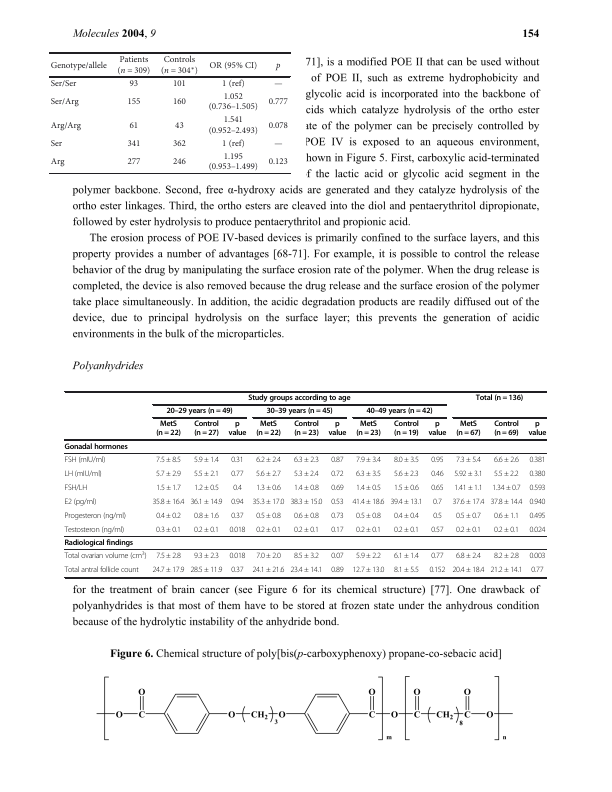borderless: (63, 390, 546, 577), (49, 51, 291, 174)
cell: (207, 92, 258, 113), (207, 115, 258, 136), (207, 152, 258, 173), (247, 394, 351, 403), (64, 550, 147, 561), (160, 55, 199, 76), (116, 55, 151, 76), (265, 407, 334, 417), (64, 566, 140, 575), (165, 407, 233, 417), (365, 407, 433, 417), (64, 442, 129, 452), (49, 60, 107, 71), (64, 511, 127, 521), (64, 539, 134, 548), (64, 525, 125, 535), (208, 60, 258, 71), (155, 420, 182, 439), (193, 420, 220, 439), (255, 420, 282, 439), (293, 420, 320, 439), (355, 420, 382, 439), (393, 420, 420, 439), (455, 420, 482, 439), (493, 420, 520, 439), (475, 394, 524, 403), (64, 455, 106, 465), (64, 469, 103, 479), (327, 420, 347, 439), (427, 420, 447, 439), (527, 420, 547, 439), (49, 120, 82, 131), (228, 420, 247, 439), (151, 497, 185, 507), (189, 497, 223, 507), (251, 497, 285, 507), (289, 497, 323, 507), (351, 497, 385, 507), (389, 497, 423, 507), (451, 497, 485, 507), (489, 497, 523, 507), (64, 497, 97, 507), (453, 483, 484, 493), (491, 483, 522, 493), (151, 566, 185, 575), (189, 566, 223, 575), (251, 566, 285, 575), (289, 566, 323, 575), (351, 566, 385, 575), (451, 566, 485, 575), (489, 566, 523, 575), (49, 97, 79, 107), (453, 469, 483, 479), (49, 79, 77, 89), (155, 455, 182, 465), (193, 455, 220, 465), (255, 455, 282, 465), (293, 455, 320, 465), (355, 455, 382, 465), (393, 455, 420, 465), (455, 455, 482, 465), (493, 455, 520, 465), (155, 469, 182, 479), (193, 469, 220, 479), (255, 469, 282, 479), (293, 469, 320, 479), (355, 469, 382, 479), (393, 469, 420, 479), (493, 469, 520, 479), (155, 483, 182, 493), (193, 483, 220, 493), (255, 483, 282, 493), (293, 483, 320, 493), (355, 483, 382, 493), (393, 483, 420, 493), (155, 511, 182, 521), (193, 511, 220, 521), (255, 511, 282, 521), (293, 511, 320, 521), (355, 511, 382, 521), (393, 511, 420, 521), (455, 511, 482, 521), (493, 511, 520, 521), (155, 525, 182, 535), (193, 525, 220, 535), (255, 525, 282, 535), (293, 525, 320, 535), (355, 525, 382, 535), (393, 525, 420, 535), (455, 525, 482, 535), (493, 525, 520, 535), (155, 552, 182, 561), (193, 552, 220, 561), (255, 552, 282, 561), (293, 552, 320, 561), (355, 552, 382, 561), (393, 552, 420, 561), (455, 552, 482, 561), (493, 552, 520, 561), (393, 566, 420, 575), (221, 79, 245, 89), (221, 139, 245, 149), (64, 483, 88, 493), (267, 120, 288, 131), (267, 157, 288, 168), (267, 97, 288, 107), (528, 455, 546, 465), (528, 469, 546, 479), (528, 483, 546, 493), (528, 497, 546, 507), (528, 511, 546, 521), (228, 525, 246, 535), (528, 525, 546, 535), (49, 157, 65, 168), (126, 157, 141, 168), (172, 157, 187, 168), (228, 552, 246, 561), (528, 552, 546, 561), (428, 566, 446, 575), (172, 79, 187, 89), (126, 97, 141, 107), (172, 97, 187, 107), (126, 139, 141, 149), (172, 139, 187, 149), (230, 455, 245, 465), (330, 455, 345, 465), (330, 483, 345, 493), (430, 483, 445, 493), (330, 497, 345, 507), (230, 511, 245, 521), (330, 511, 345, 521), (330, 525, 345, 535), (49, 139, 63, 149), (430, 455, 444, 465), (230, 469, 244, 479), (330, 469, 344, 479), (430, 469, 444, 479), (230, 497, 244, 507), (430, 525, 444, 535), (330, 552, 345, 561), (330, 566, 345, 575), (430, 552, 444, 561), (230, 566, 244, 575), (530, 566, 544, 575), (128, 120, 139, 131), (128, 79, 139, 89), (174, 120, 184, 131), (232, 483, 243, 493), (432, 497, 443, 507), (432, 511, 443, 521), (275, 62, 281, 71), (273, 83, 283, 87), (273, 143, 283, 147)
